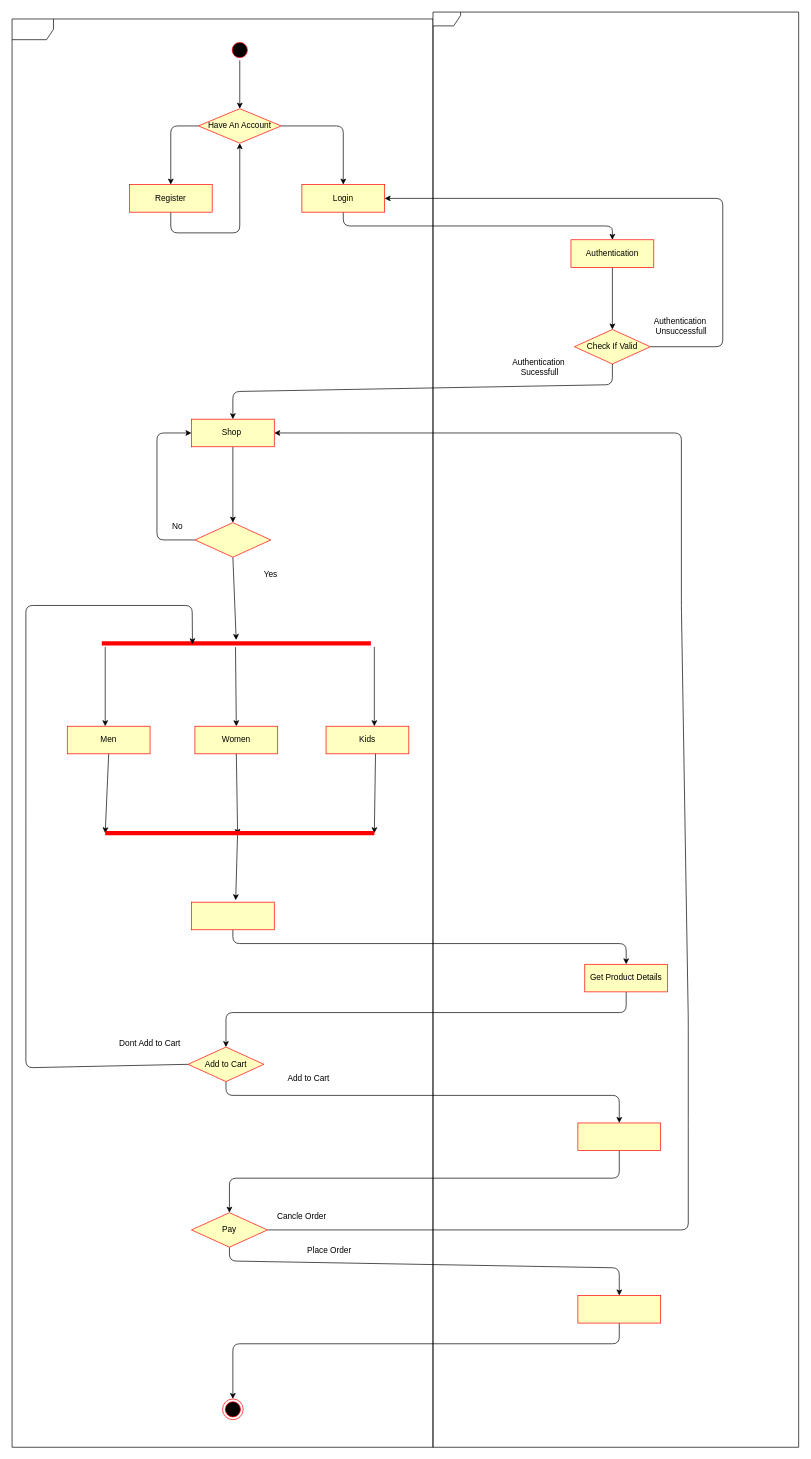
The diagram is 811 pixels wide and 1459 high, and some of its shapes have lost their labels. The shapes that lost their labels are listed below. From the top down, each one's box as (x1, y1, x2, y2) in pixels, then its label:
(194, 522, 271, 557): View Products
(11, 18, 433, 1447): Customer
(432, 11, 799, 1447): Database
(191, 901, 274, 930): Veiw Produt Details
(577, 1122, 661, 1151): Update Databse Cart
(577, 1295, 661, 1323): Update Databse payment
